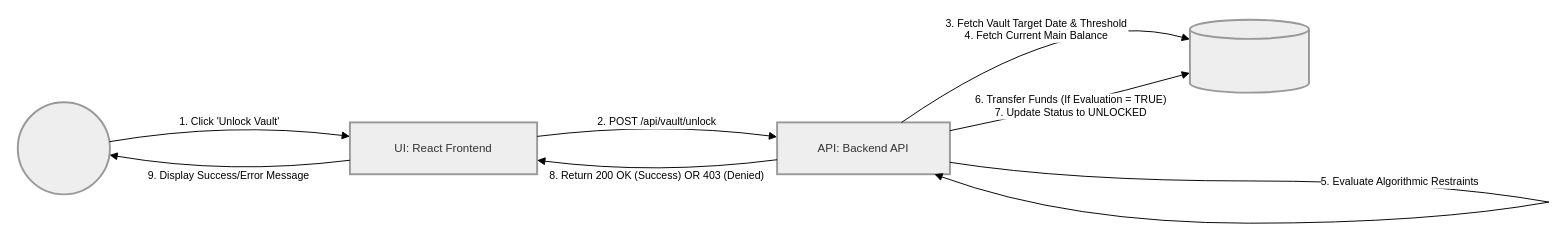
This 1566x240 diagram has some shape labels left out. Here are the shapes that lost their labels. From the top down, the box of each, then its label:
(1188, 18, 1309, 93): DB: PostgreSQL
(16, 101, 110, 195): Actor: User
